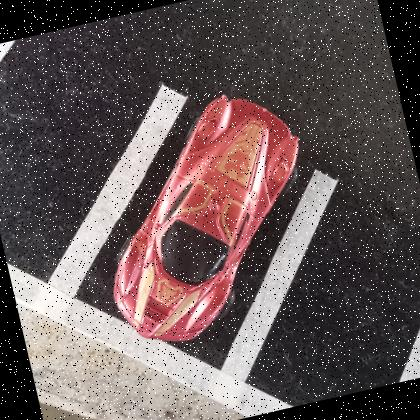Car: (75, 79, 336, 356)
